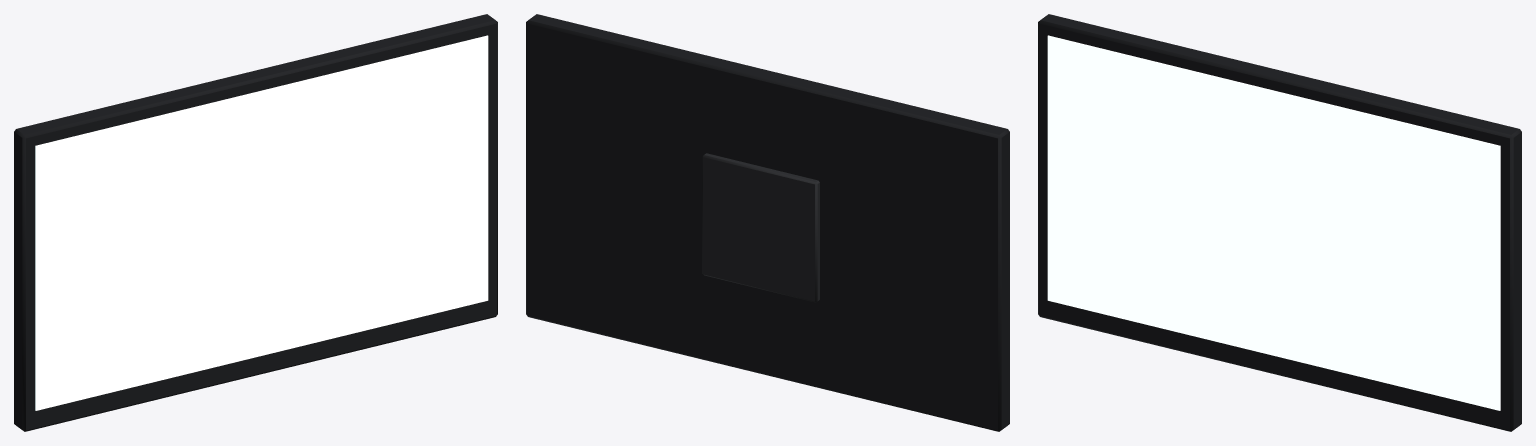
The picture shows the model from 3 angles, left to right: view 1: azimuth 30°, elevation 25°; view 2: azimuth 150°, elevation 25°; view 3: azimuth 330°, elevation 25°; orthographic projection.
Parts seen in each view (by area): view 1: tv; view 2: tv; view 3: tv.
Part boxes in pixels (x1=…): tv: x1=14, y1=14, x2=497, y2=431; tv: x1=526, y1=14, x2=1009, y2=431; tv: x1=1038, y1=14, x2=1521, y2=431.
Bounding box in the file's own units: 1.24 × 0.74 × 0.0675.
